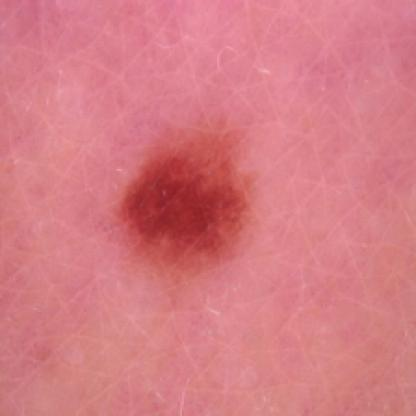benign: (122, 122, 249, 262)
